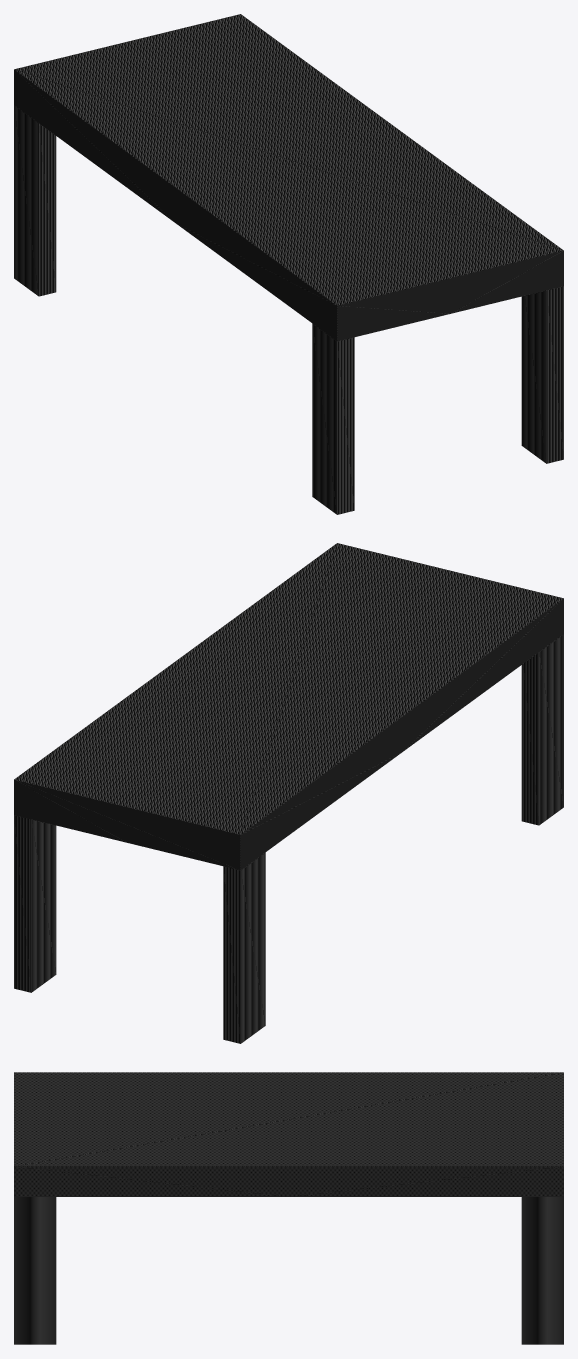
The model's file is Table.fbx.
3 renders of one model, top to bottom at view 1: azimuth 30°, elevation 25°; view 2: azimuth 150°, elevation 25°; view 3: azimuth 270°, elevation 25°, orthographic. The views are drawn at different scales.
Parts seen in each view (by area): view 1: pCube1; view 2: pCube1; view 3: pCube1.
Boxes of the visible parts, x1,y1,x2,y2 form: pCube1: [14, 14, 563, 514]; pCube1: [14, 543, 563, 1043]; pCube1: [14, 1072, 563, 1344].
Size of the model in its own units: 2.61 by 2.3 by 6.45.
Materials: 1 (1 with a texture image).
